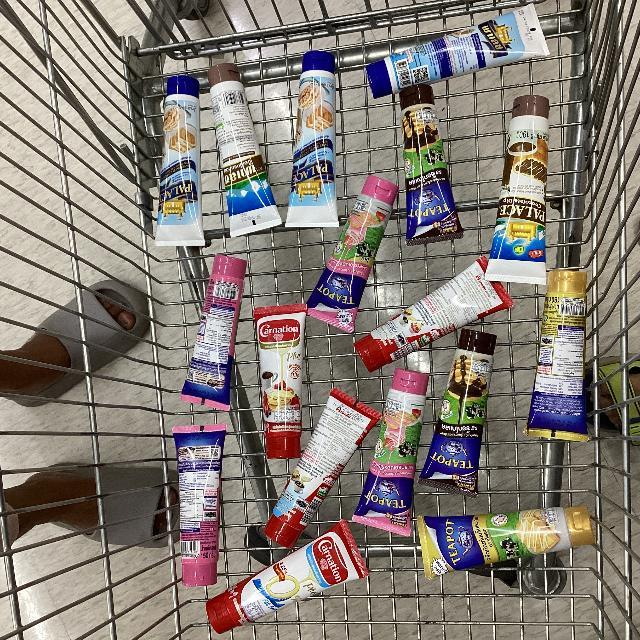Squeeze Tube: (97, 8, 640, 604)
